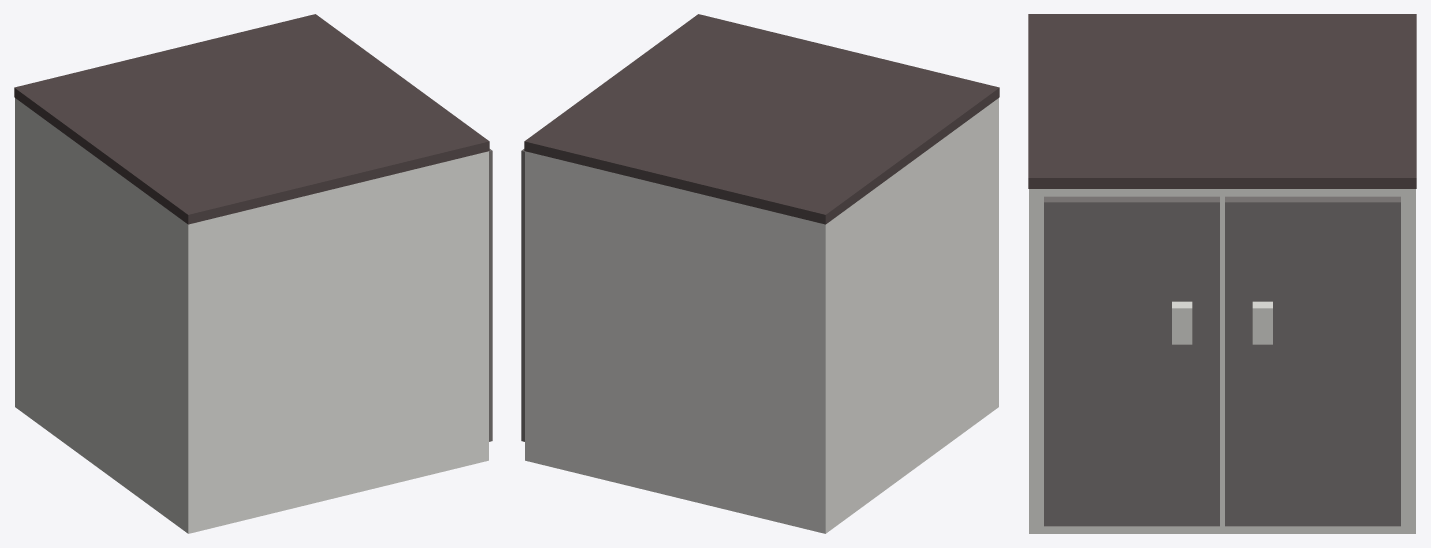
The model's file is kitchen_sideboard.fbx.
The picture shows the model from 3 angles, left to right: view 1: azimuth 30°, elevation 25°; view 2: azimuth 150°, elevation 25°; view 3: azimuth 270°, elevation 25°; orthographic projection. The views are drawn at different scales.
Parts seen in each view (by area): view 1: kitchen_sideboard; view 2: kitchen_sideboard; view 3: kitchen_sideboard.
Part boxes in pixels (x1=…): kitchen_sideboard: x1=14, y1=14, x2=492, y2=533; kitchen_sideboard: x1=521, y1=14, x2=999, y2=533; kitchen_sideboard: x1=1028, y1=14, x2=1416, y2=533.
Size of the model in its own units: 96.1 by 103 by 97.31.
